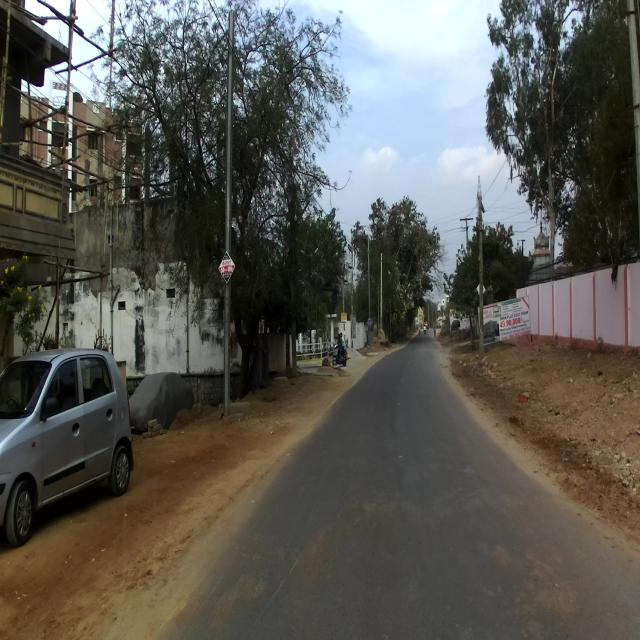car ahead at: (0, 336, 140, 543)
electric pole ahead at: (204, 5, 248, 427)
